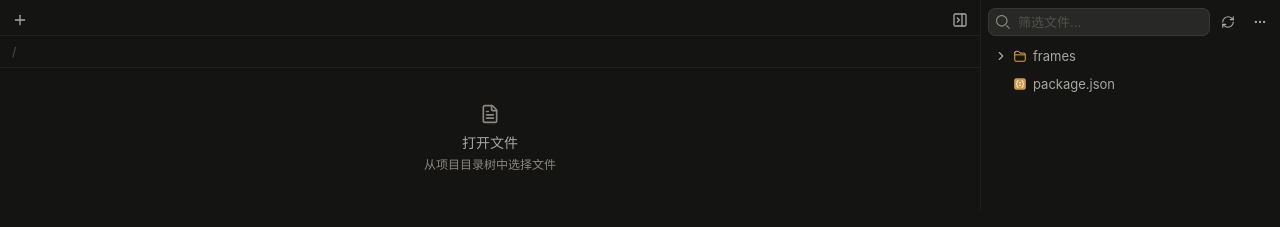
FilesPane › BUG-12 · tree options and big folders › 1–3 · hides dot files and ignored ones until asked, then shows them paler
Click the button named "目录树选项" at (1260,22), box [1246,8,1274,36]
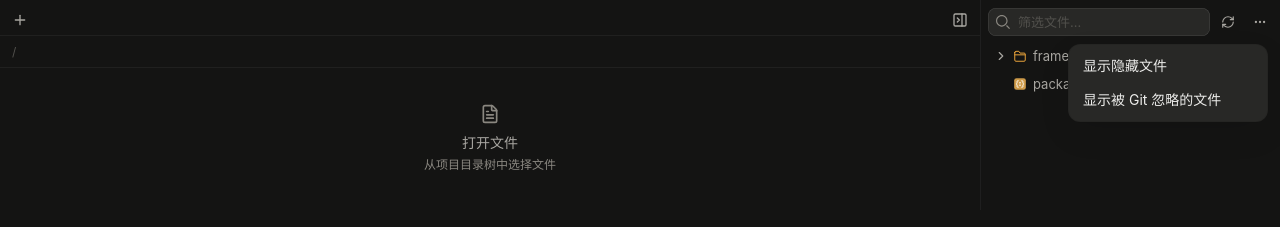
Click the menu item "显示隐藏文件" at (1168,66), box [1073,49,1263,83]
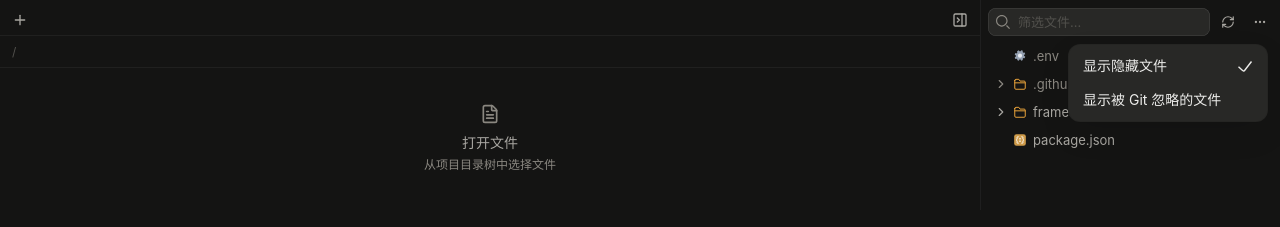
Click the menu item "显示被 Git 忽略的文件" at (1168,100), box [1073,83,1263,117]
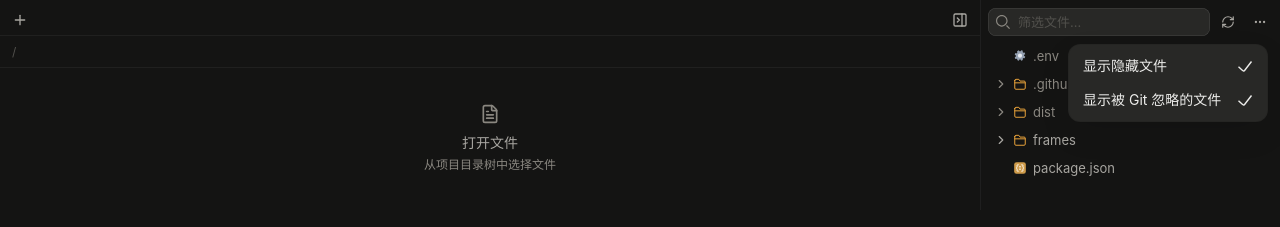
Now the text "dist" is shown, box [1033,104,1055,120]
